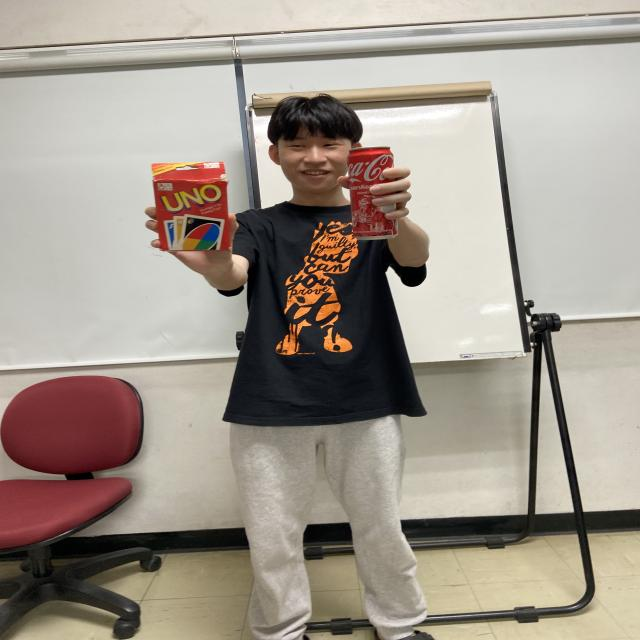can: (346, 146, 399, 241)
